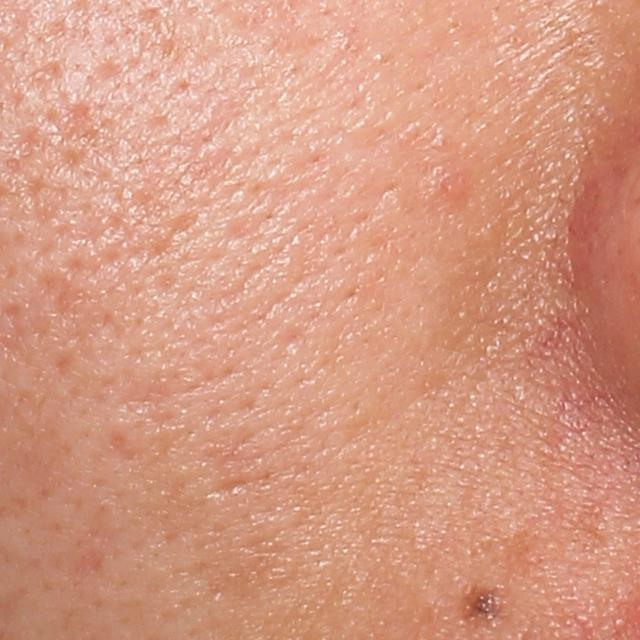atrophic_scar: (206, 478, 256, 502)
nevus: (461, 583, 506, 620)
